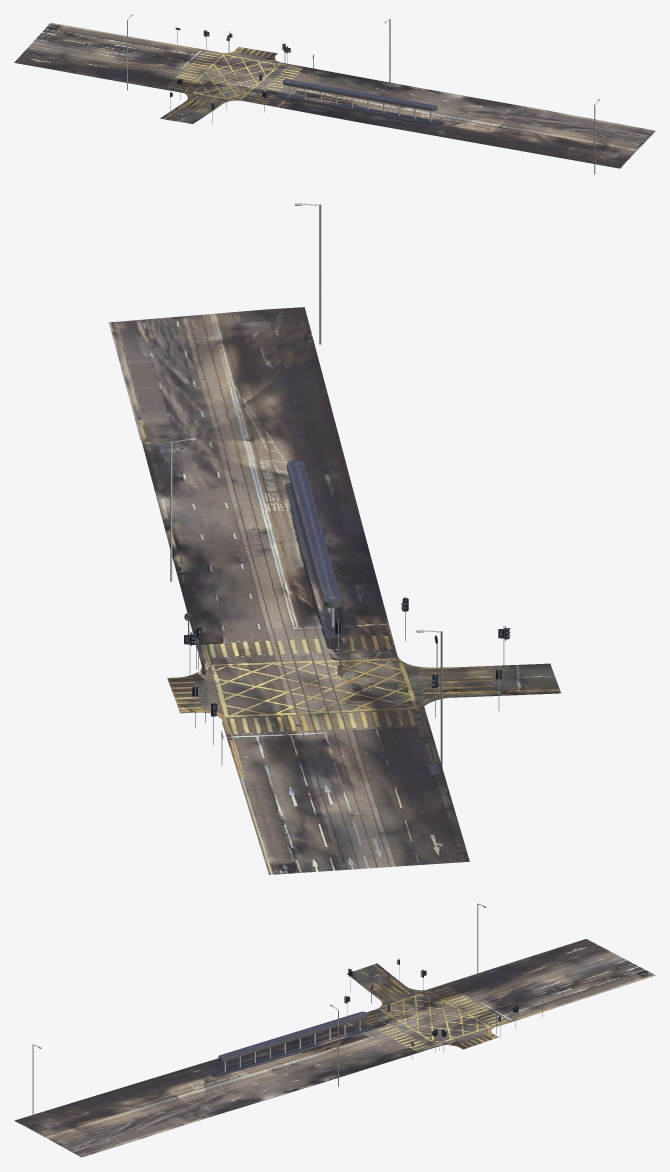
The model's file is pottinger-street.glb.
The picture shows the model from 3 angles, top to bottom: view 1: azimuth 30°, elevation 25°; view 2: azimuth 150°, elevation 25°; view 3: azimuth 270°, elevation 25°; orthographic projection. The views are drawn at different scales.
Visible parts, largest first — view 1: pottinger-street; view 2: pottinger-street; view 3: pottinger-street.
Boxes of the visible parts, box(x1,y1,x2,y2) form: pottinger-street: box(14, 14, 655, 174); pottinger-street: box(109, 203, 560, 874); pottinger-street: box(14, 903, 655, 1157).
Size of the model in its own units: 79.49 by 13.2 by 98.3.
7 materials, 7 textured.
